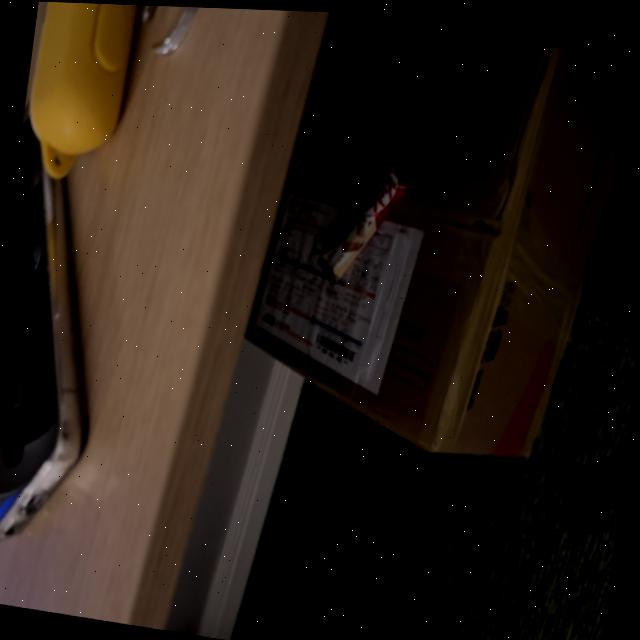chocolate: (311, 149, 419, 298)
